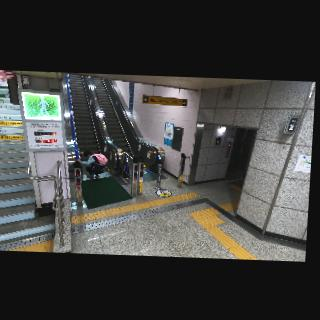anomaly: (74, 148, 107, 180)
